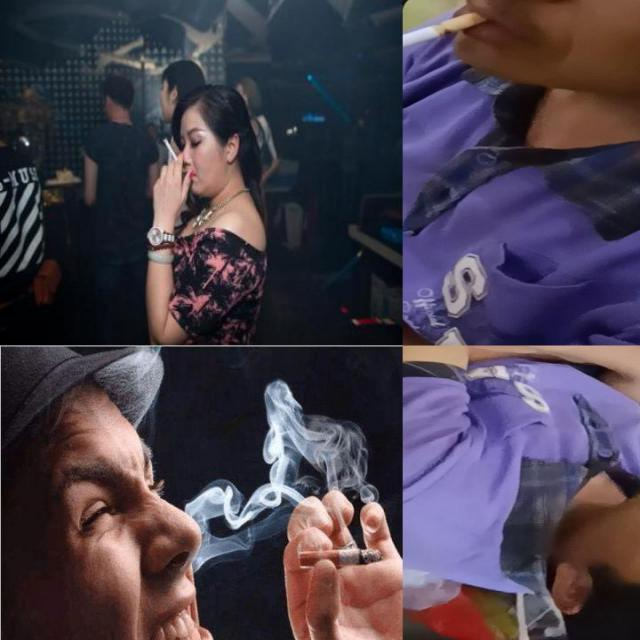cigarette: (403, 12, 488, 78), (298, 549, 384, 567), (162, 136, 178, 162)
